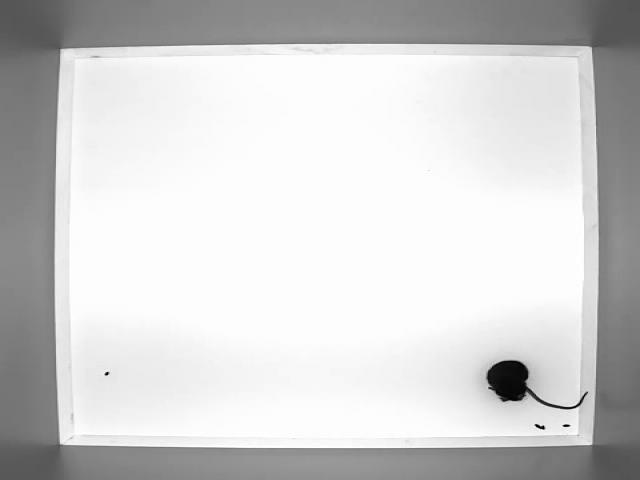Tikus: (477, 354, 597, 420)
